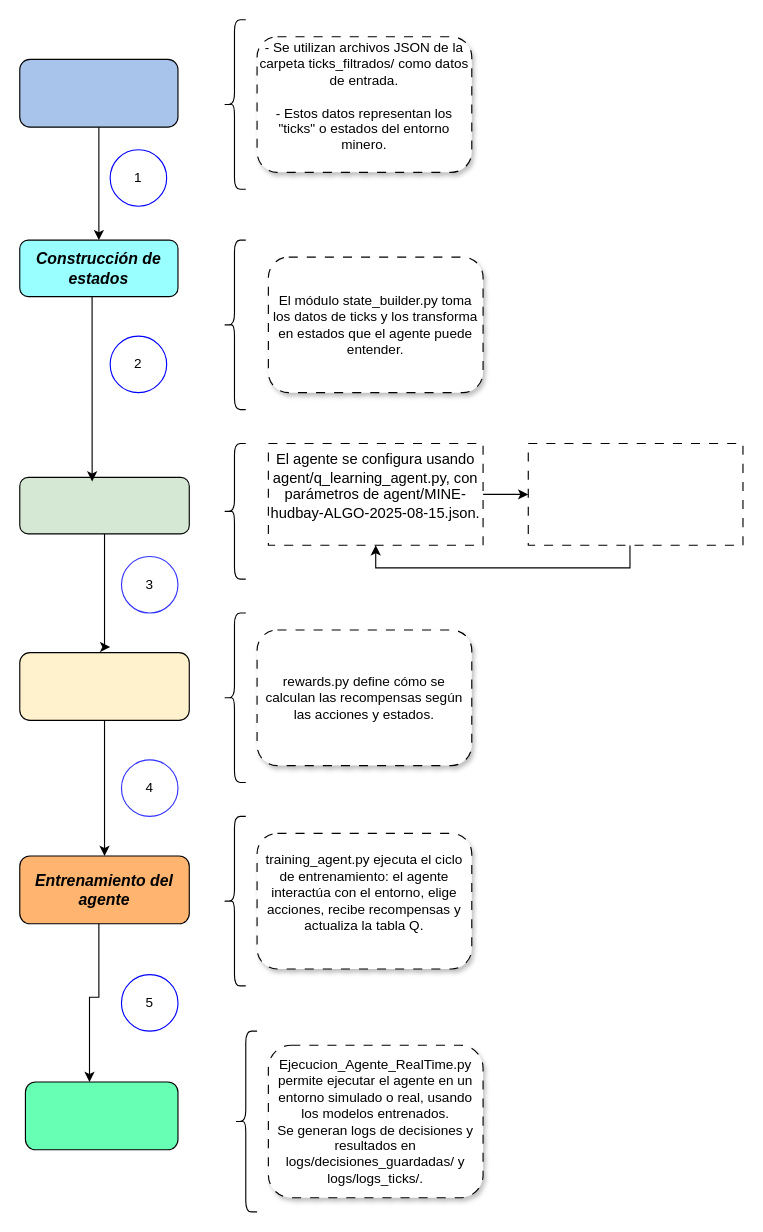
The diagram is 763 pixels wide and 1232 high, and some of its shapes have lost their labels. The centre of each missing label's shape, as x and y in pixels:
"Definicion de Recompensas" belongs at pixel 104 685.
"Ejecución en tiempo real o pruebas" belongs at pixel 101 1115.
"Inicialización del agente" belongs at pixel 104 505.
"Preparacion de datos" belongs at pixel 98 92.
"Se inicializan las tablas Q y otros parámetros de aprendizaje." belongs at pixel 635 493.
